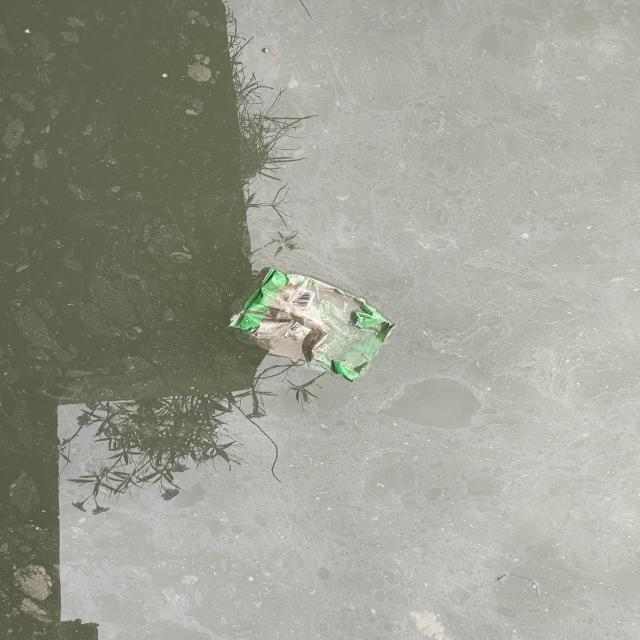Bungkus Makanan: (226, 266, 396, 384)
